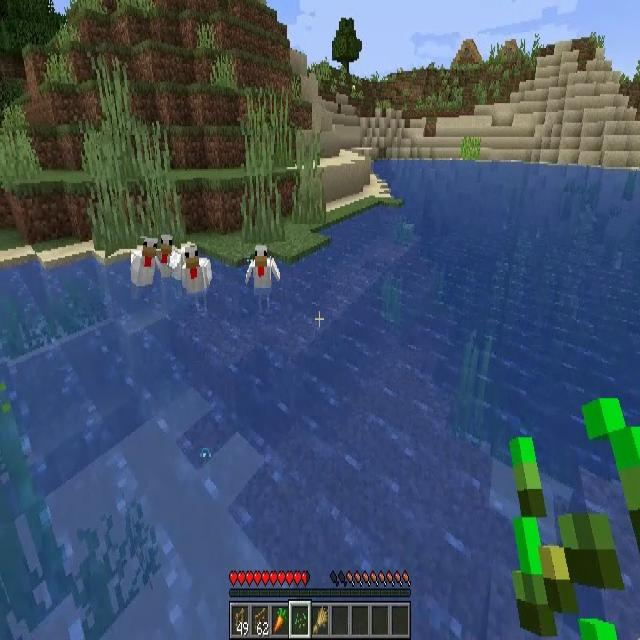duck: (248, 244, 282, 310), (180, 246, 211, 310), (131, 238, 161, 299), (158, 234, 181, 280)
